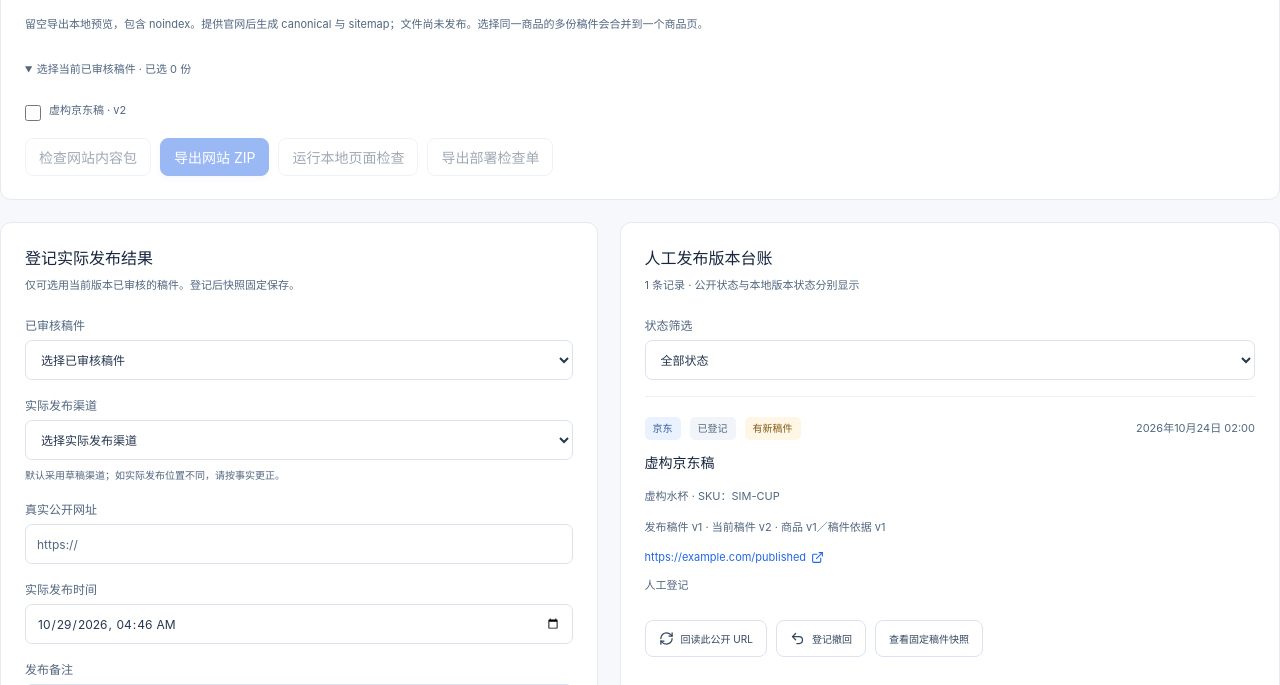
Test: shows SKU and version status and defaults the actual channel from the draft
The width and height of the screenshot is (1280, 685).
(page scrolled)
Expected: the text "虚构水杯 · SKU：SIM-CUP" is shown, [644,489,780,503]
Expected: the text "有新稿件" is shown, [744,417,800,440]
Select "虚构京东稿 · v2" in the dropdown labelled "已审核稿件": (299, 360) [25,340,572,380]
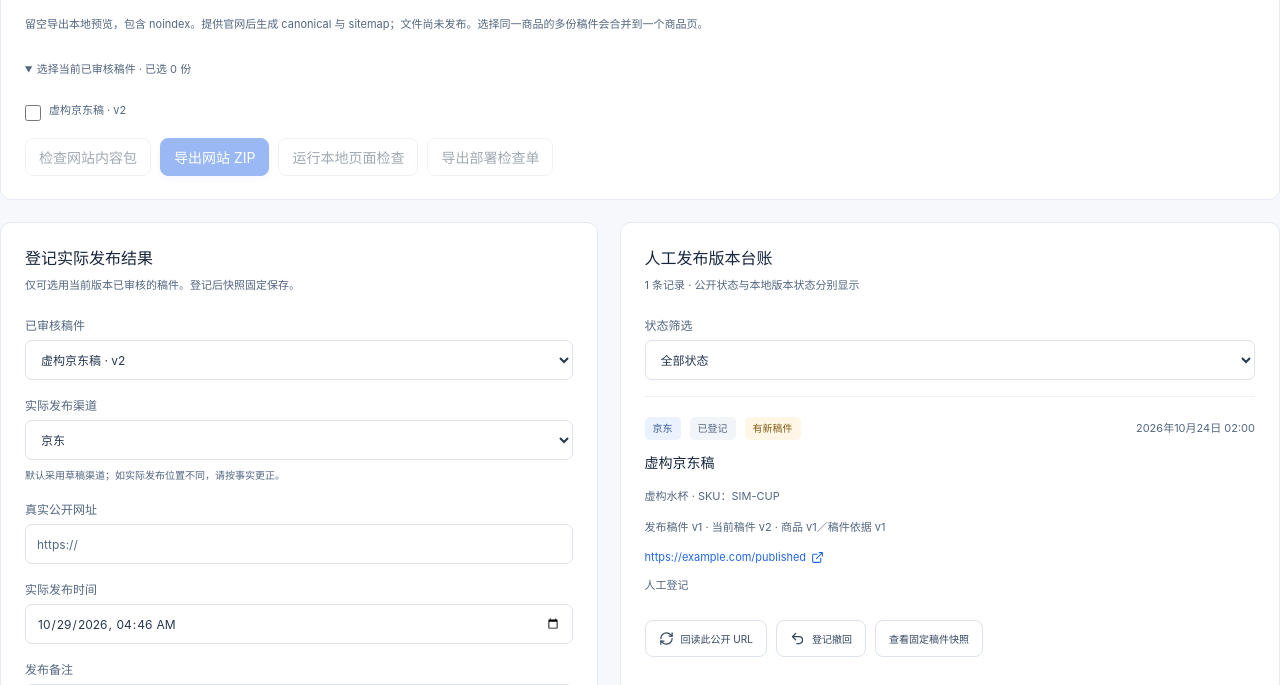
Result: the dropdown labelled "实际发布渠道" shows "京东" at [25,420,572,460]
Select "当前版本" in the dropdown labelled "状态筛选": (950, 360) [644,340,1255,380]
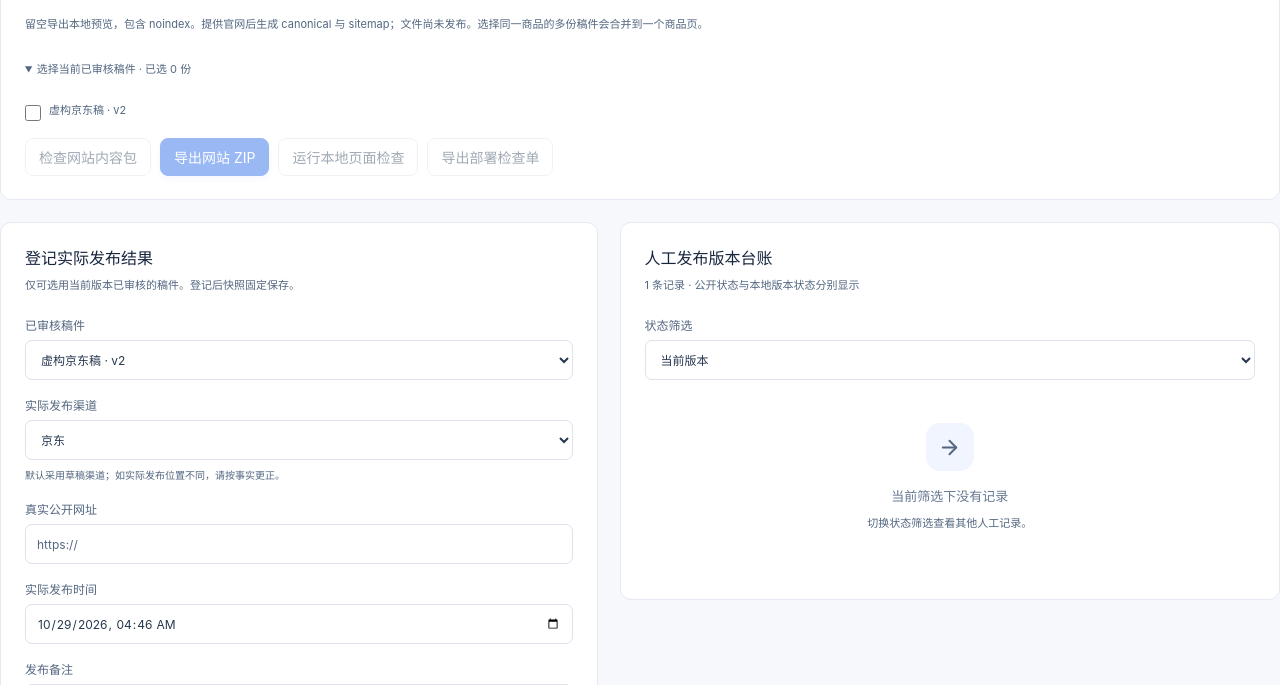
Result: the heading "当前筛选下没有记录" is shown at [891,486,1008,507]
